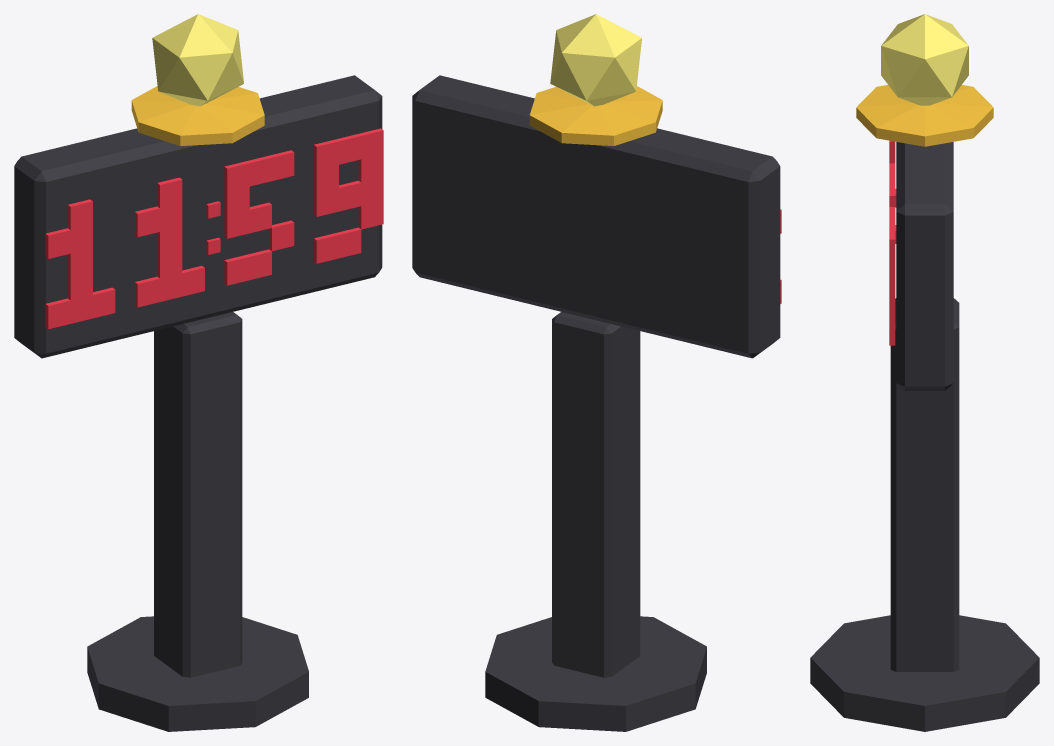
Rendered from CountdownClock.fbx.
3 renders of one model, left to right at view 1: azimuth 30°, elevation 25°; view 2: azimuth 150°, elevation 25°; view 3: azimuth 270°, elevation 25°, orthographic.
Parts seen in each view (by area): view 1: CountdownClock; view 2: CountdownClock; view 3: CountdownClock.
Boxes of the visible parts, x1,y1,x2,y2 form: CountdownClock: (14, 14, 383, 731); CountdownClock: (412, 14, 781, 731); CountdownClock: (810, 14, 1039, 731).
Size of the model in its own units: 7 by 12.9 by 4.
Materials: 1 (1 with a texture image).
